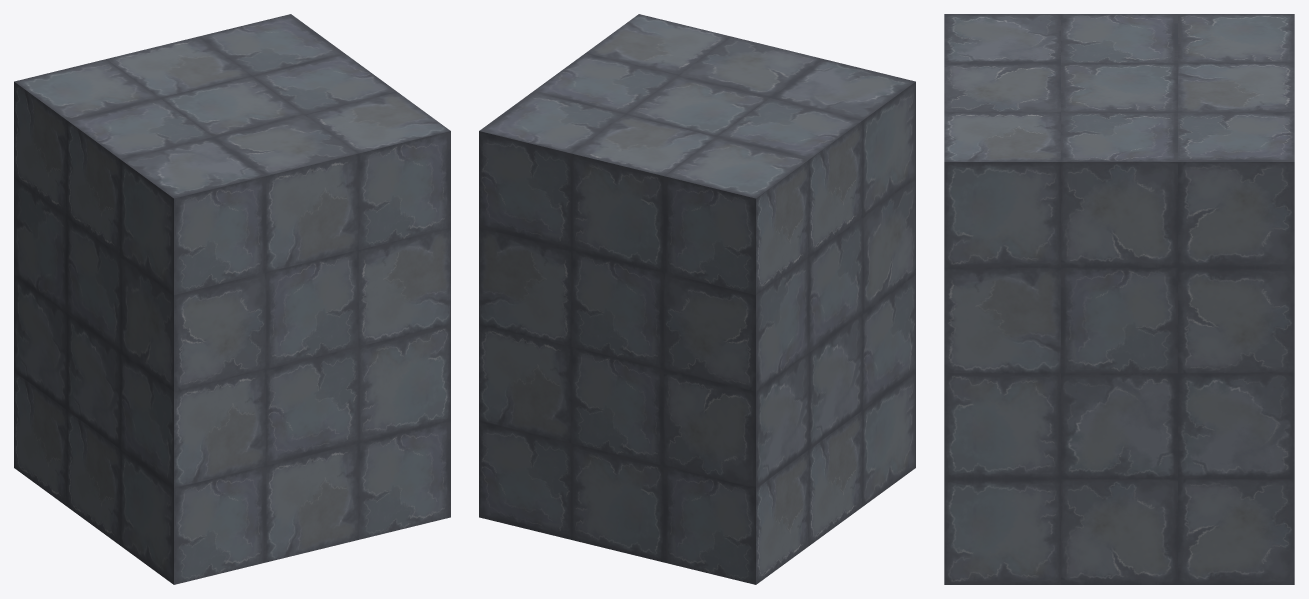
Rendered from Castle Block 3x3x4.fbx.
3 views of the same model, side by side, from view 1: azimuth 30°, elevation 25°; view 2: azimuth 150°, elevation 25°; view 3: azimuth 270°, elevation 25° (orthographic). The views are drawn at different scales.
Parts seen in each view (by area): view 1: Castle Block 3x3x4; view 2: Castle Block 3x3x4; view 3: Castle Block 3x3x4.
Part boxes in pixels (x1=…): Castle Block 3x3x4: x1=14, y1=14, x2=450, y2=584; Castle Block 3x3x4: x1=479, y1=14, x2=915, y2=584; Castle Block 3x3x4: x1=944, y1=14, x2=1294, y2=584.
Size of the model in its own units: 2.25 by 3 by 2.25.
